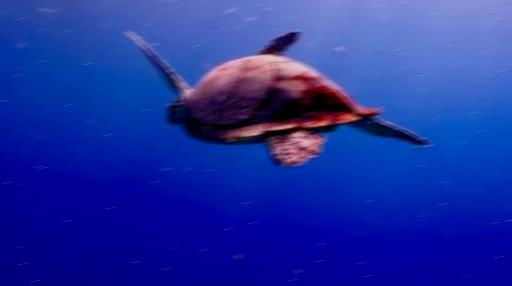Fish: (127, 31, 428, 165)
